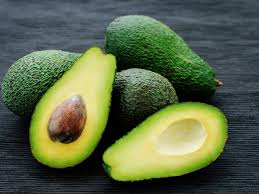aguacate: (102, 9, 234, 99), (4, 42, 89, 117)
